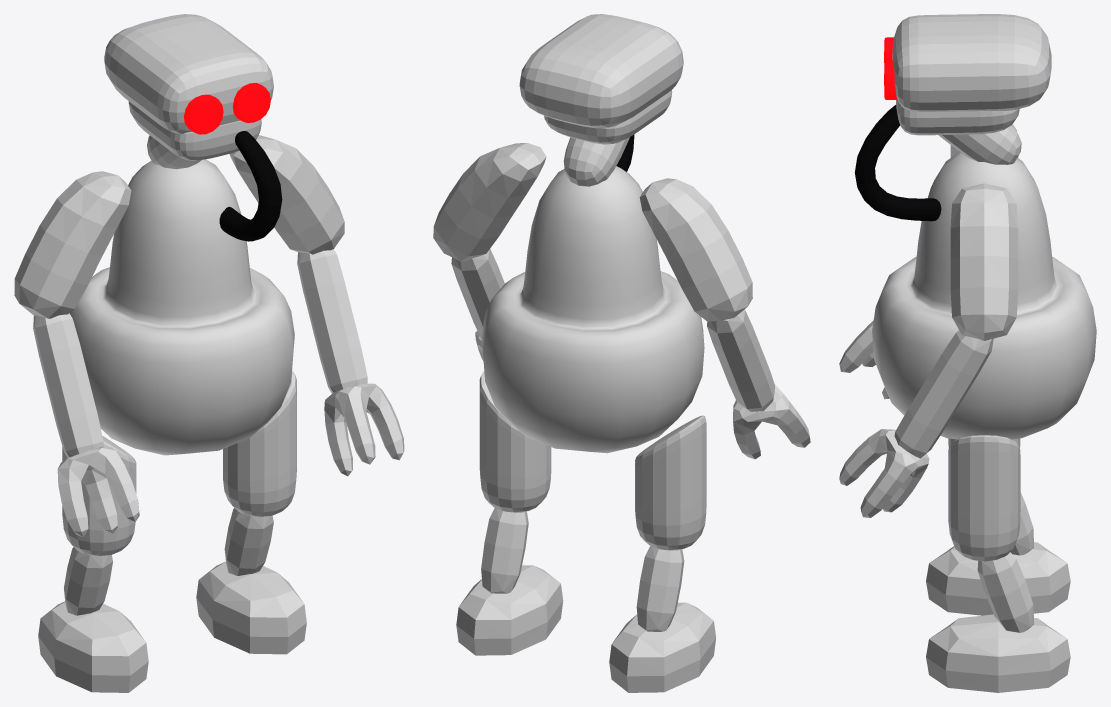
File: robot.fbx
3 views of the same model, side by side, from view 1: azimuth 30°, elevation 25°; view 2: azimuth 150°, elevation 25°; view 3: azimuth 270°, elevation 25° (orthographic). The views are drawn at different scales.
Visible parts, largest first — view 1: Cube; view 2: Cube; view 3: Cube.
Part boxes in pixels (box(x1,y1,x2,y2)): Cube: box(14, 14, 404, 692); Cube: box(433, 14, 810, 692); Cube: box(839, 14, 1096, 692).
Bounding box in the file's own units: 110 × 195 × 74.21.
